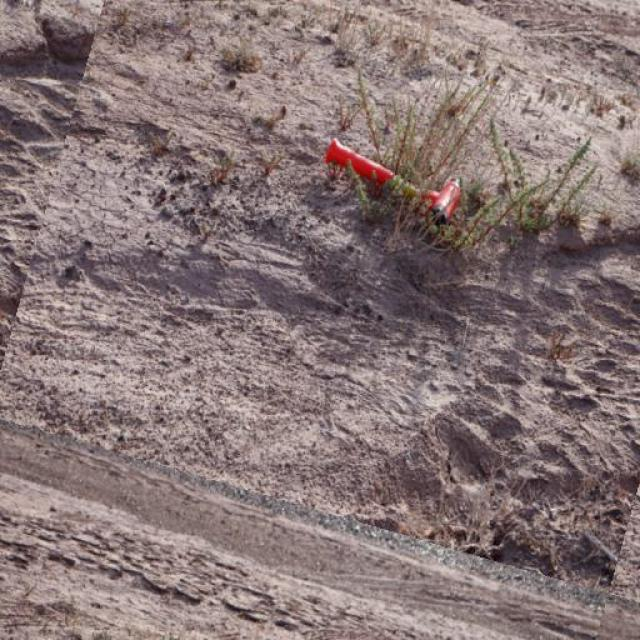mallet: (322, 136, 462, 226)
